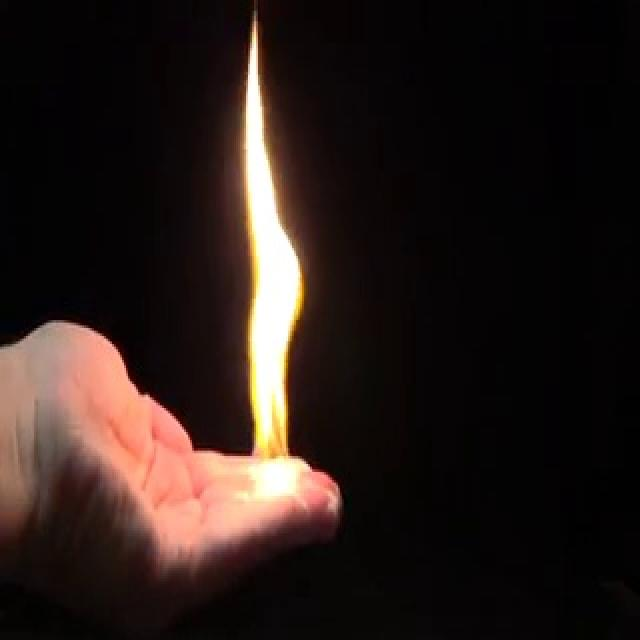fire: (224, 0, 316, 512)
